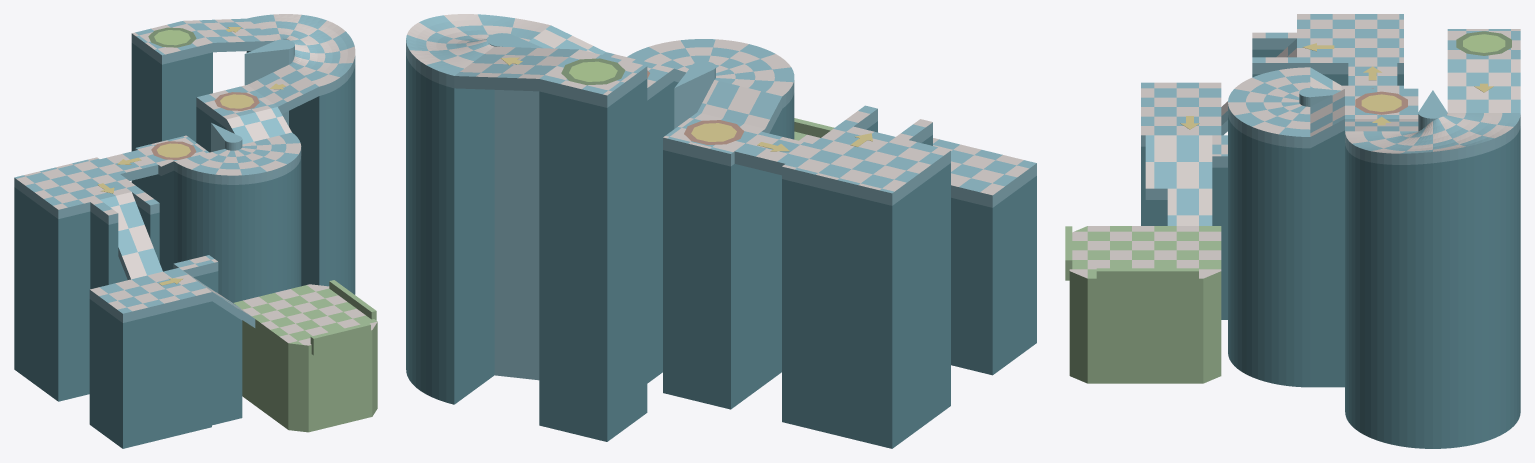
Rendered from level2-desktop.glb.
The picture shows the model from 3 angles, left to right: view 1: azimuth 30°, elevation 25°; view 2: azimuth 150°, elevation 25°; view 3: azimuth 270°, elevation 25°; orthographic projection. The views are drawn at different scales.
Parts seen in each view (by area): view 1: 加宽中继实体塔台 · 实体台柱, 加宽陡降入口塔台 · 实体台柱, 等高半圆连接 · 贴合曲面实体塔柱, 紧凑贴柱宽弯 · 贴合曲面实体塔柱, 绿色终点 · 实体台柱, 起点塔台 · 实体台柱, 绿色终点, 紧凑贴柱宽弯, 加宽陡降入口塔台, 等高半圆连接, 加宽中继实体塔台, 第二方孔前侧斜低边 · 实体台柱 (+18 smaller); view 2: 加宽陡降入口塔台 · 实体台柱, 起点塔台 · 实体台柱, 紧凑贴柱宽弯 · 贴合曲面实体塔柱, 第二存档塔台 · 实体台柱, 贴弯尖脊 / 可用作侧墙 (×2), 加宽中继实体塔台 · 实体台柱, 加宽陡降入口塔台, 紧凑贴柱宽弯, 等高半圆连接, 第一存档塔台 · 实体台柱, 加宽中继实体塔台, 回转后短斜坡 · 实体台柱 (+9 smaller); view 3: 紧凑贴柱宽弯 · 贴合曲面实体塔柱, 等高半圆连接 · 贴合曲面实体塔柱, 绿色终点 · 实体台柱, 回转前短斜坡 · 实体台柱, 绿色终点, 紧凑贴柱宽弯, 加宽陡降入口塔台, 等高半圆连接, 加宽中继实体塔台, 横向陡降槽, 短入口缓坡, 绿色终点护边 (+12 smaller).
Part boxes in pixels (x1,y1,x2,y2): 加宽中继实体塔台 · 实体台柱: (89, 299, 211, 448); 加宽陡降入口塔台 · 实体台柱: (14, 187, 127, 401); 等高半圆连接 · 贴合曲面实体塔柱: (174, 156, 301, 302); 紧凑贴柱宽弯 · 贴合曲面实体塔柱: (246, 51, 355, 294); 绿色终点 · 实体台柱: (242, 320, 377, 432); 起点塔台 · 实体台柱: (131, 43, 212, 184); 绿色终点: (233, 284, 377, 354); 紧凑贴柱宽弯: (247, 14, 355, 95); 加宽陡降入口塔台: (14, 157, 140, 218); 等高半圆连接: (174, 132, 301, 184); 加宽中继实体塔台: (89, 268, 211, 322); 第二方孔前侧斜低边 · 实体台柱: (212, 301, 242, 425); 加宽陡降入口塔台 · 实体台柱: (782, 163, 950, 448); 起点塔台 · 实体台柱: (539, 79, 647, 441); 紧凑贴柱宽弯 · 贴合曲面实体塔柱: (406, 52, 494, 404); 第二存档塔台 · 实体台柱: (663, 150, 765, 409); 贴弯尖脊 / 可用作侧墙 (×2): (486, 33, 715, 380); 加宽中继实体塔台 · 实体台柱: (951, 176, 1036, 375); 加宽陡降入口塔台: (782, 123, 950, 205); 紧凑贴柱宽弯: (406, 14, 550, 88); 等高半圆连接: (627, 39, 794, 108); 第一存档塔台 · 实体台柱: (647, 81, 673, 383); 加宽中继实体塔台: (933, 138, 1036, 207); 回转后短斜坡 · 实体台柱: (765, 109, 782, 383); 紧凑贴柱宽弯 · 贴合曲面实体塔柱: (1345, 126, 1520, 448); 等高半圆连接 · 贴合曲面实体塔柱: (1228, 115, 1310, 387); 绿色终点 · 实体台柱: (1069, 282, 1221, 383); 回转前短斜坡 · 实体台柱: (1310, 130, 1344, 387); 绿色终点: (1069, 226, 1221, 289); 紧凑贴柱宽弯: (1345, 113, 1520, 164); 加宽陡降入口塔台: (1297, 14, 1403, 74); 等高半圆连接: (1228, 67, 1310, 148); 加宽中继实体塔台: (1141, 82, 1221, 146); 横向陡降槽: (1167, 135, 1212, 225); 短入口缓坡: (1447, 59, 1520, 112); 绿色终点护边: (1096, 268, 1198, 291).
Size of the model in its own units: 10.77 by 7.82 by 10.22.
